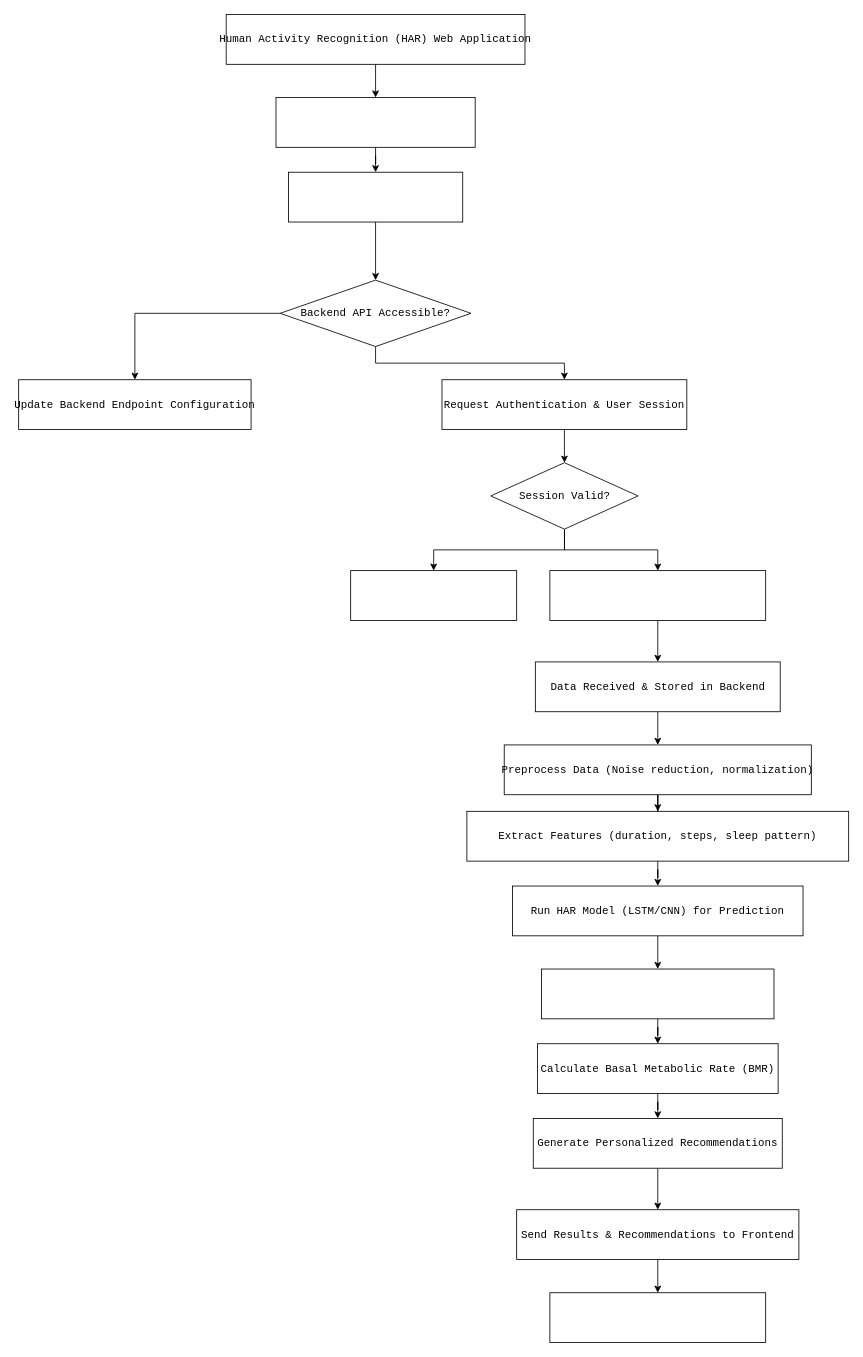
The diagram is 863 pixels wide and 1357 high, and some of its shapes have lost their labels. Here are the shapes that lost their labels. From the top down, the box of each, then its label:
(275, 97, 475, 147): Initialize React.js Frontend
(288, 171, 463, 222): Connect to Backend REST API
(350, 570, 517, 620): Prompt User Login/Register
(549, 570, 766, 620): User Inputs Sensor Data (Mobile)
(541, 968, 774, 1019): Generate User Activity Report
(549, 1292, 766, 1343): Render Results on User Dashboard
